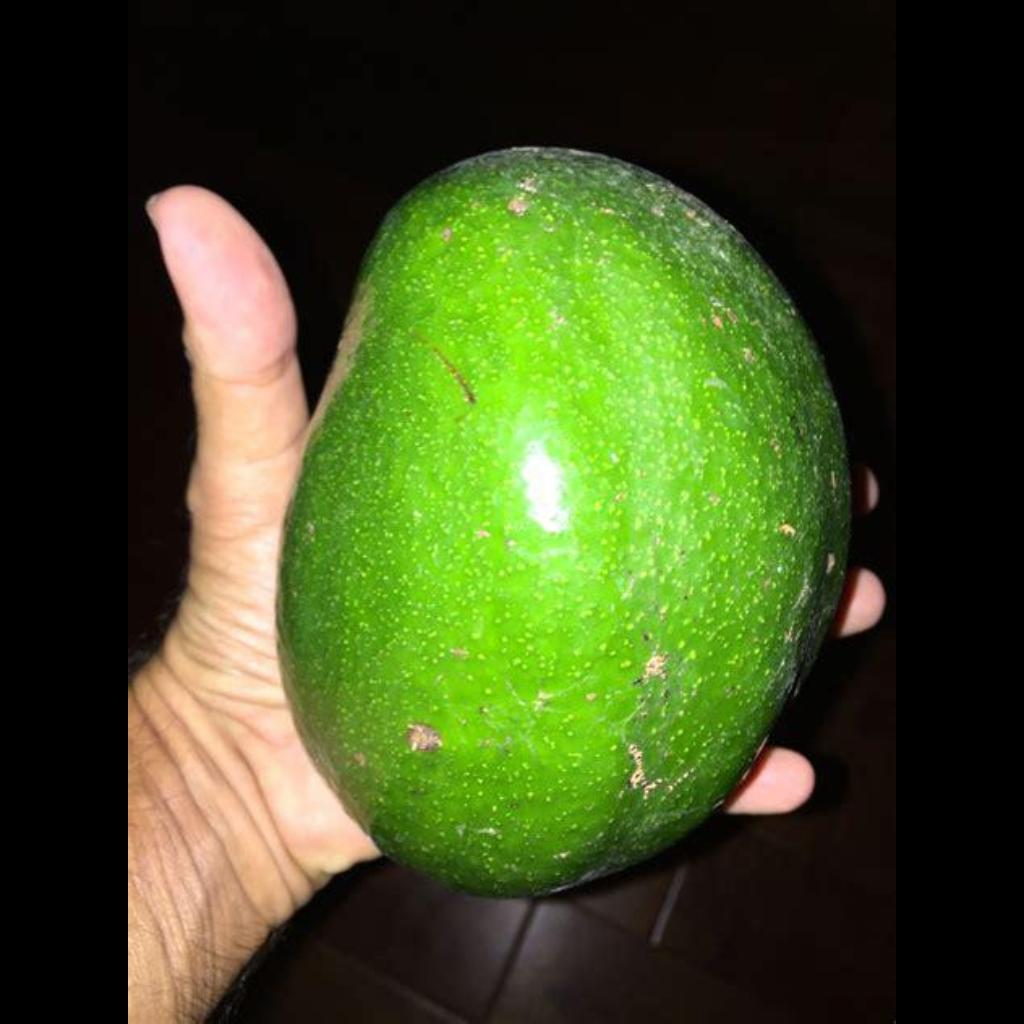fruto_sano: (278, 132, 834, 881)
